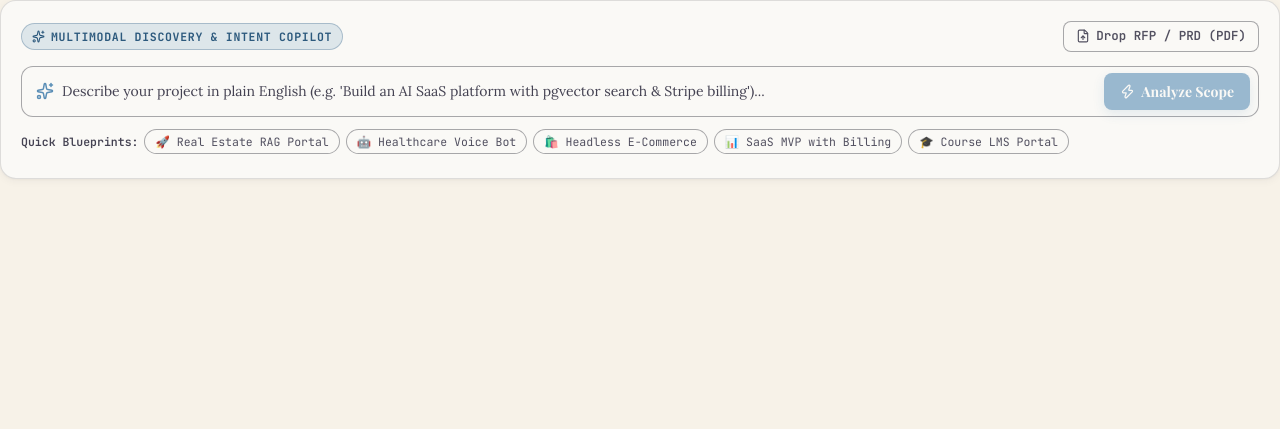
Test: AiScopingPromptBar Component › displays real telemetry after successful backend analysis
This screenshot has width=1280, height=429.
Replace the text in the field with placeholder "Describe your project in plain English" with "Build knowledge base": [579, 91] box [62,80,1096,103]
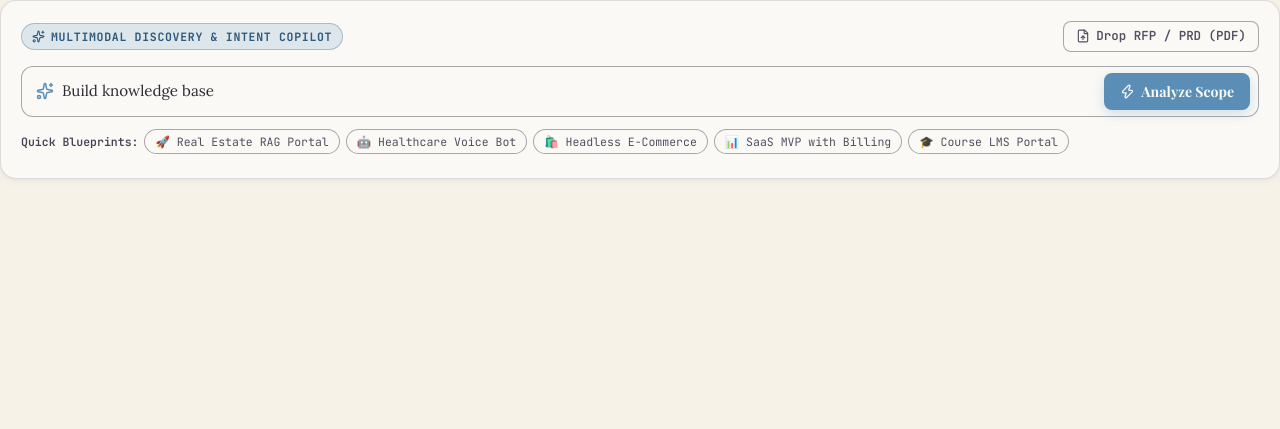
Click the button with aria-label "Analyze Intent": [1177, 91] box [1104,73,1250,110]
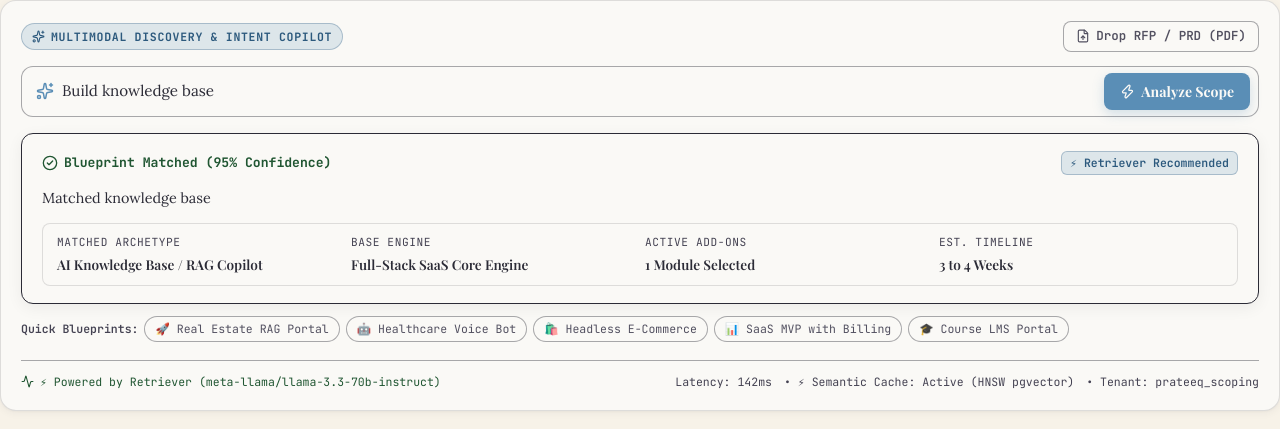
Result: the text "⚡ Powered by Retriever (meta-llama/llama-3.3-70b-instruct)" is shown at [40,372,441,390]
Result: the text "Latency: 142ms" is shown at [675,372,772,390]
